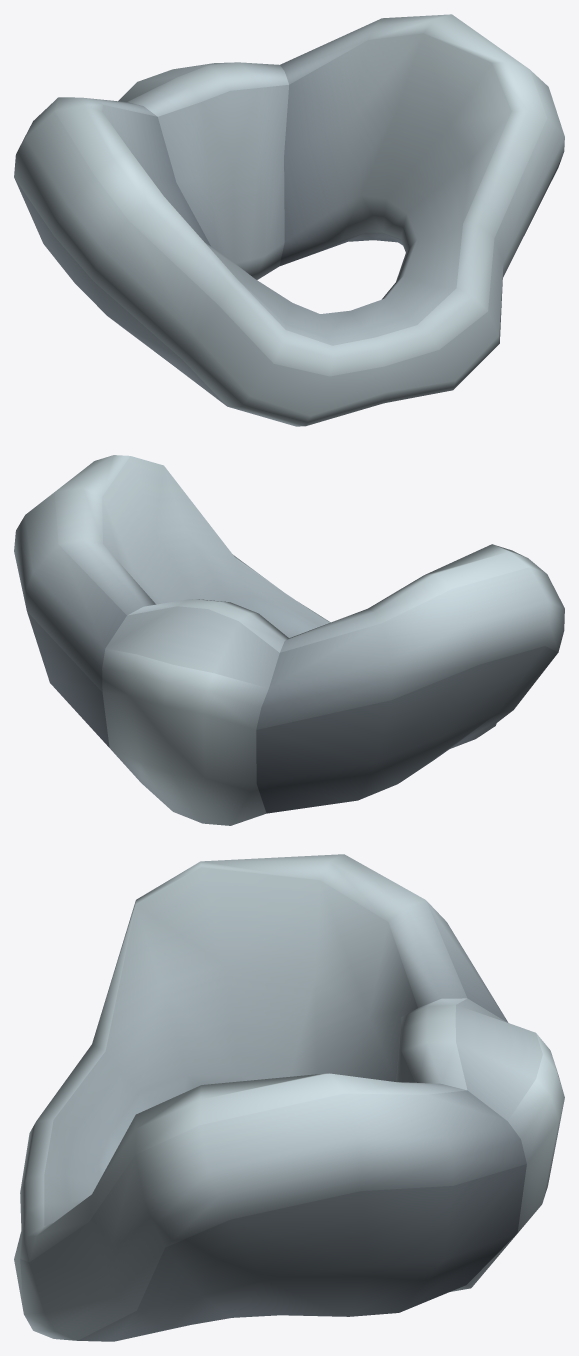
File: bone_pelvis_LOD_group.fbx
The picture shows the model from 3 angles, top to bottom: view 1: azimuth 30°, elevation 25°; view 2: azimuth 150°, elevation 25°; view 3: azimuth 270°, elevation 25°; orthographic projection. The views are drawn at different scales.
Visible parts, largest first — view 1: bone_pelvis_LOD0; view 2: bone_pelvis_LOD0; view 3: bone_pelvis_LOD0.
Boxes of the visible parts, bbox=[...] form: bone_pelvis_LOD0: bbox=[14, 14, 564, 426]; bone_pelvis_LOD0: bbox=[14, 455, 564, 825]; bone_pelvis_LOD0: bbox=[14, 854, 564, 1341].
Size of what is drawn, in the model's own units: 66.42 by 34.18 by 52.29.
Materials: 1 (1 with a texture image).
